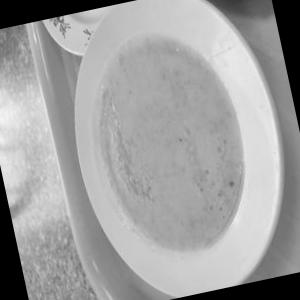porridge: (69, 14, 279, 278)
